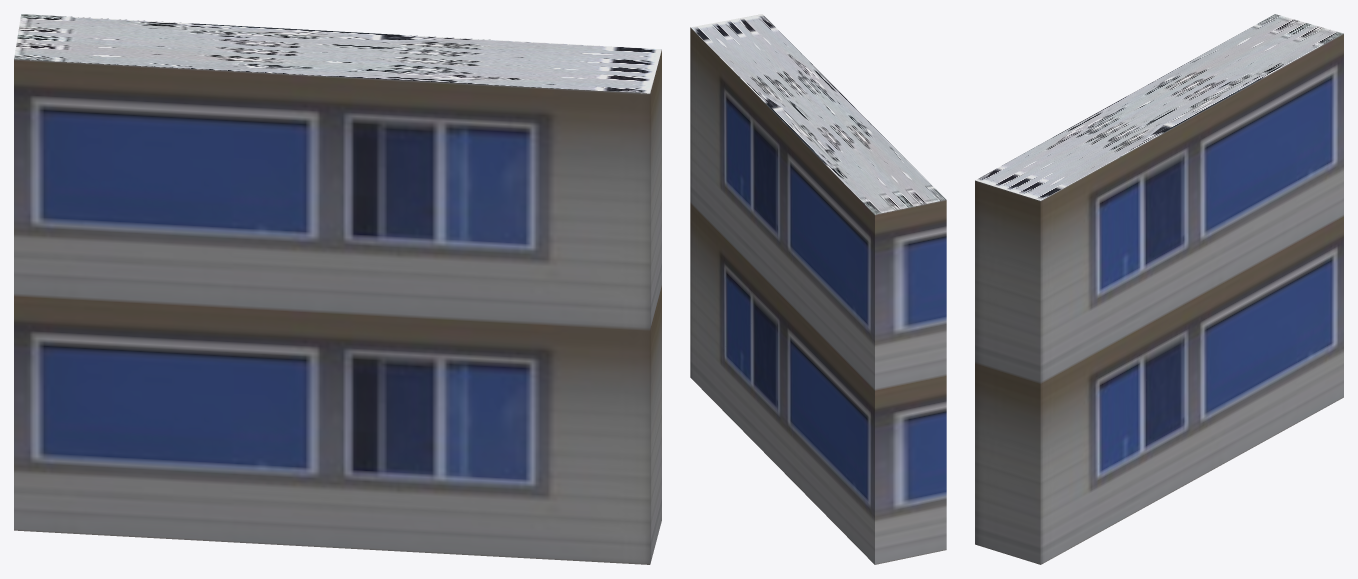
Rendered from ResTex__983.fbx.
3 renders of one model, left to right at view 1: azimuth 30°, elevation 25°; view 2: azimuth 150°, elevation 25°; view 3: azimuth 270°, elevation 25°, orthographic. The views are drawn at different scales.
Parts seen in each view (by area): view 1: CityEngineMaterial_23_m, CityEngineMaterial_4_m; view 2: CityEngineMaterial_23_m, CityEngineMaterial_4_m; view 3: CityEngineMaterial_23_m, CityEngineMaterial_4_m.
Part boxes in pixels (x1,y1,x2,y2): CityEngineMaterial_23_m: (14,50,661,564); CityEngineMaterial_4_m: (14,14,661,93); CityEngineMaterial_23_m: (690,27,946,564); CityEngineMaterial_4_m: (691,14,946,214); CityEngineMaterial_23_m: (975,33,1343,564); CityEngineMaterial_4_m: (975,14,1343,200).
Size of the model in its own units: 6.61 by 6 by 5.51.
2 materials, 2 textured.
